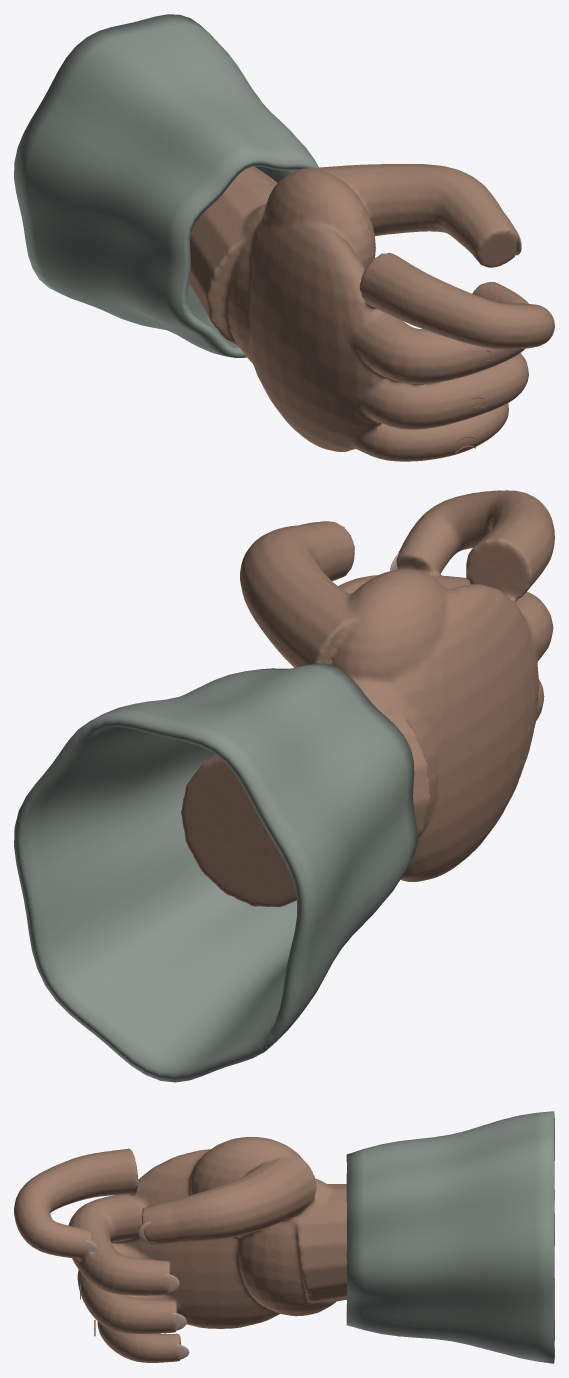
Rendered from gripping_hand_v09.glb.
The picture shows the model from 3 angles, top to bottom: view 1: azimuth 30°, elevation 25°; view 2: azimuth 150°, elevation 25°; view 3: azimuth 270°, elevation 25°; orthographic projection. The views are drawn at different scales.
Parts seen in each view (by area): view 1: FittedRightHand, RolledCuff; view 2: RolledCuff, FittedRightHand; view 3: FittedRightHand, RolledCuff.
Part boxes in pixels (x1=…): FittedRightHand: x1=188, y1=164, x2=554, y2=461; RolledCuff: x1=14, y1=14, x2=318, y2=357; RolledCuff: x1=14, y1=663, x2=417, y2=1082; FittedRightHand: x1=181, y1=490, x2=554, y2=907; FittedRightHand: x1=14, y1=1137, x2=346, y2=1362; RolledCuff: x1=346, y1=1111, x2=554, y2=1363.
Size of the model in its own units: 0.1008 by 0.1072 by 0.2251.
